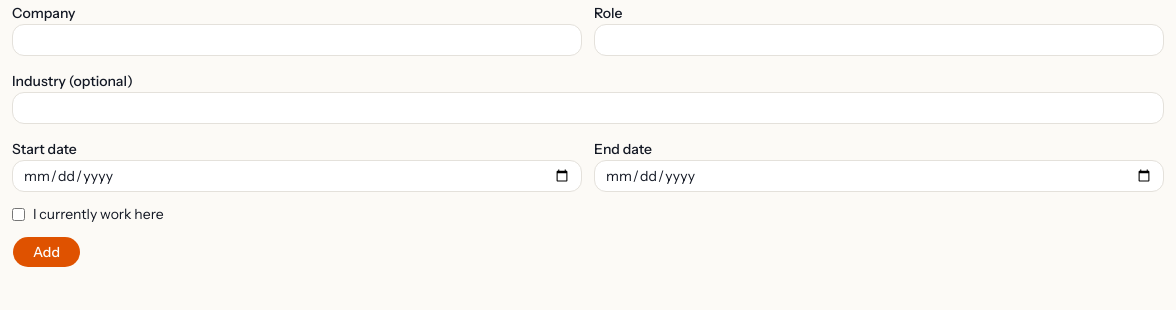
Scenario: ExperienceForm › shows the field error the action returns
The width and height of the screenshot is (1176, 310).
What coordinates should you click on to do the following:
click the button "Add"
I would click on:
 (46, 252)
Its box is [12,236,81,268].
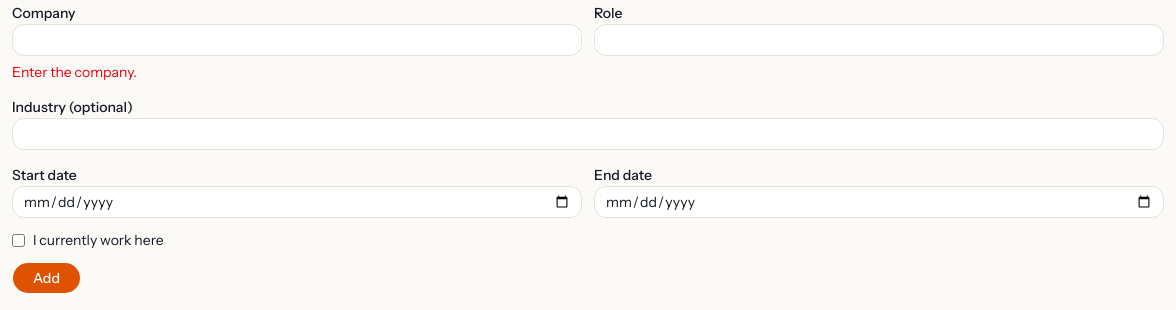
Check: the text "Enter the company." is shown, box [12,63,137,81]
